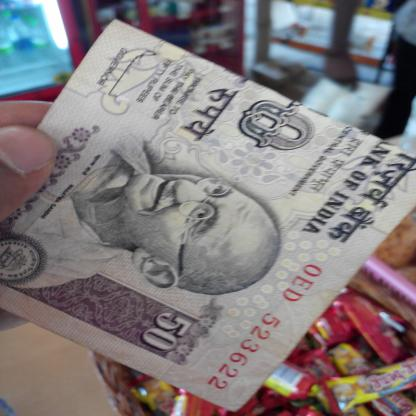Old50Front: (0, 19, 416, 412)
